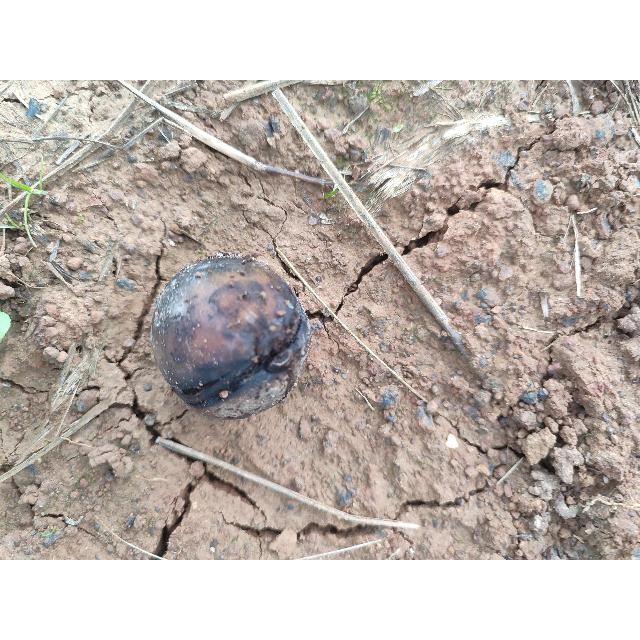damaged: (150, 256, 311, 421)
